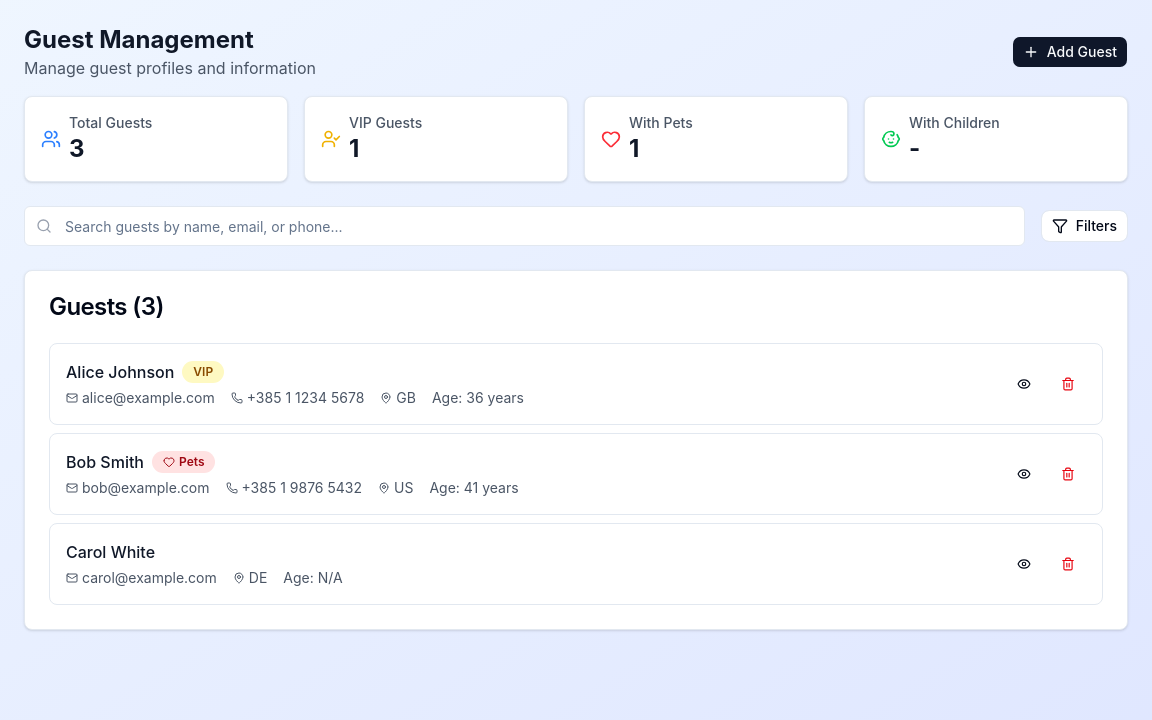
Test case: GuestsPage › empty state › shows search-specific message when search yields no results
Type "xyznotfound" into the field with placeholder "Search guests by name, email, or phone..." at (524, 226), box x1=24 y1=206 x2=1025 y2=246
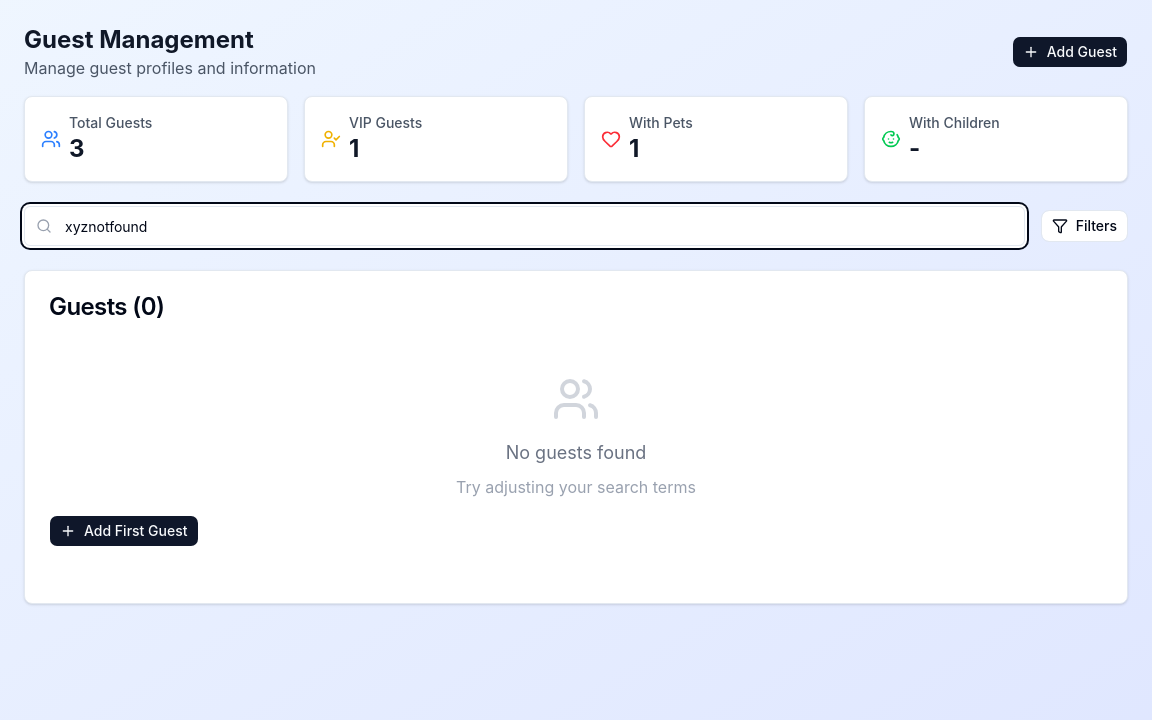
Expected: the text "No guests found" is shown, x1=506 y1=442 x2=646 y2=463
Expected: the text "Try adjusting your search terms" is shown, x1=456 y1=477 x2=696 y2=497
